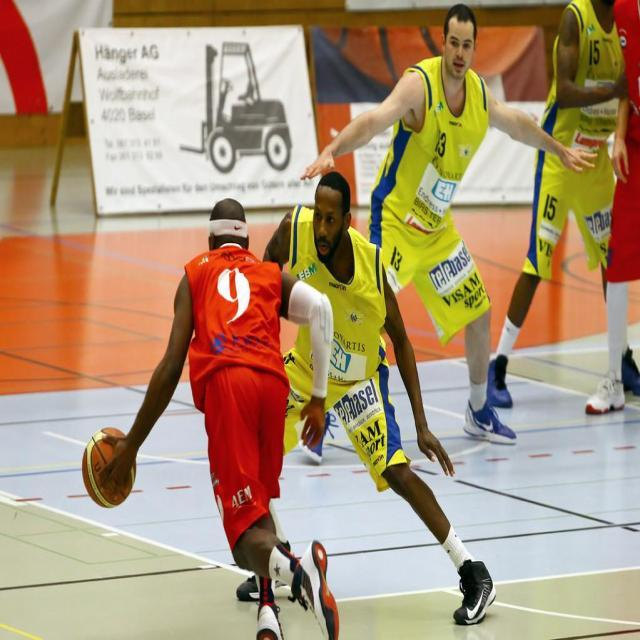rim: (82, 426, 138, 509)
